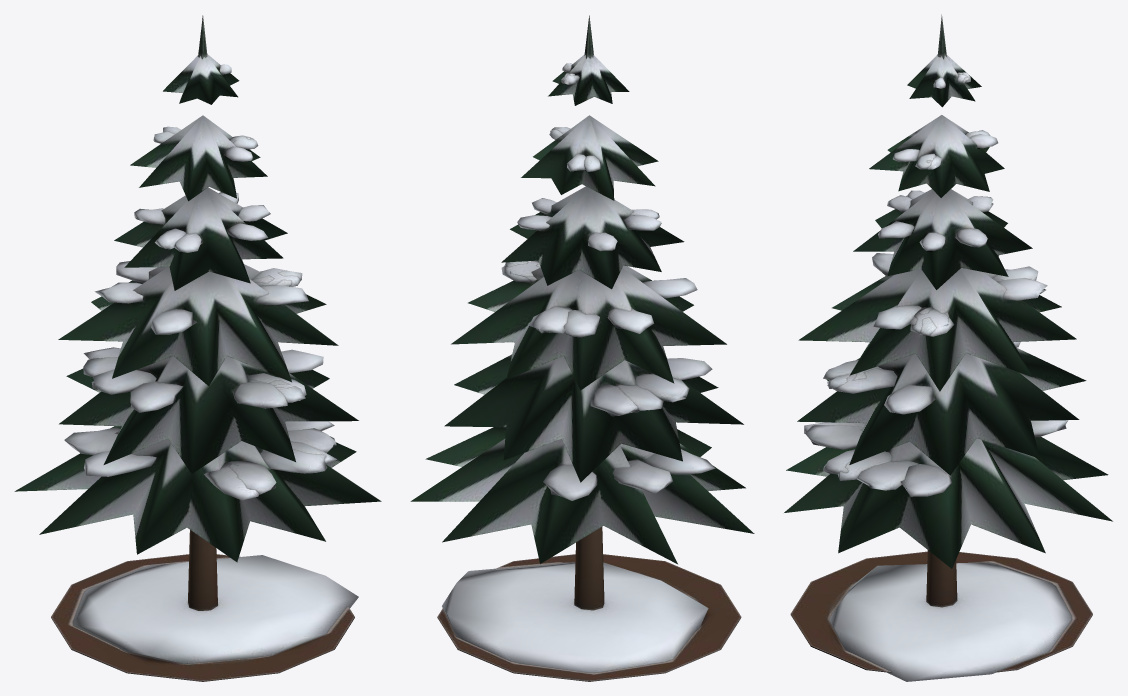
Rendered from tree_pine.glb.
3 renders of one model, left to right at view 1: azimuth 30°, elevation 25°; view 2: azimuth 150°, elevation 25°; view 3: azimuth 270°, elevation 25°, orthographic.
Visible parts, largest first — view 1: tree_pine; view 2: tree_pine; view 3: tree_pine.
Part boxes in pixels (box(x1,y1,x2,y2)): tree_pine: box(14, 15, 381, 681); tree_pine: box(410, 15, 754, 681); tree_pine: box(784, 14, 1112, 681).
Size of the model in its own units: 3.74 by 6.67 by 3.32.
Materials: 1 (1 with a texture image).
